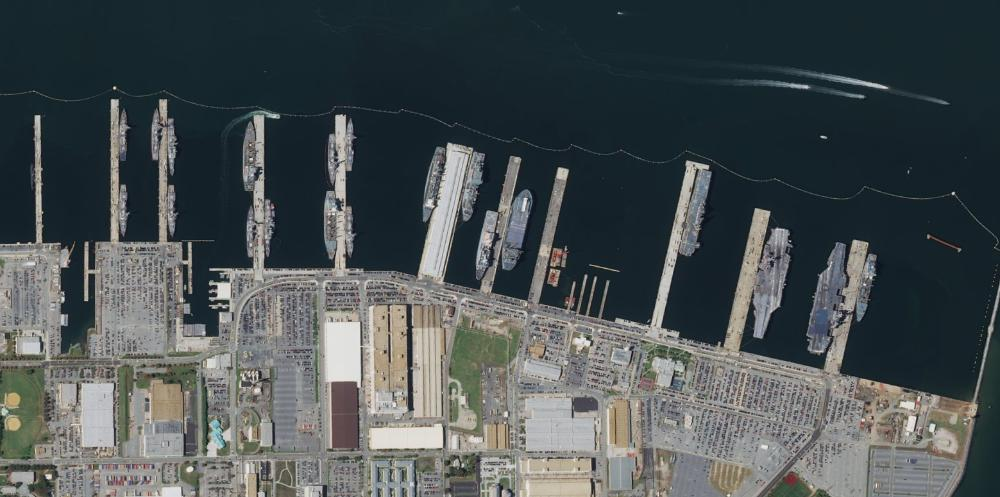destroyer: (165, 119, 179, 177), (343, 207, 357, 255), (345, 117, 355, 174)
fregate: (148, 107, 165, 162), (118, 107, 134, 161), (164, 184, 179, 239), (117, 183, 130, 238)
pha: (677, 165, 712, 260)
supply: (503, 183, 535, 274), (421, 143, 449, 223)
